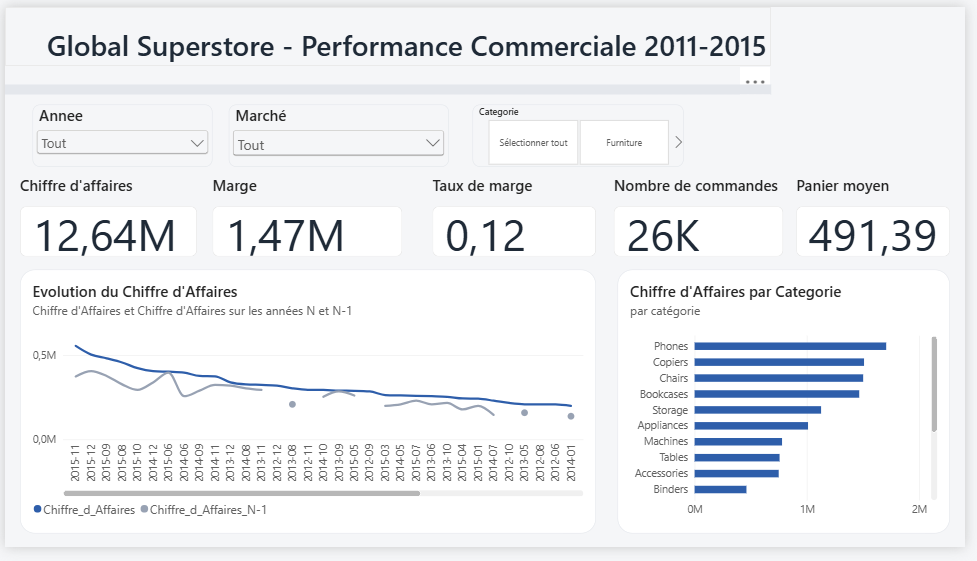

Layout of this report page (visuals, bound fields, positions):
{"tool":"powerbi","page":{"name":"Synthèse","canvas":[1280,720],"ordinal":0},"visuals":[{"type":"textbox","box":[0,0,1054.5,77.3],"z":0},{"type":"shape","box":[0,102.5,1055,12.5],"z":1000},{"type":"slicer","fields":{"Values":["Dates.Annee"]},"box":[36.7,130,240,83.3],"z":2000},{"type":"slicer","fields":{"Values":["Orders.Market"]},"box":[298.3,130,293.3,83.3],"z":3000},{"type":"slicer","fields":{"Values":["Orders.Category"]},"box":[622.9,130.8,637.2,82.5],"z":4000},{"type":"cardVisual","title":"Chiffre d''affaires","fields":{"Data":["Mesures_DAX.Chiffre_d_Affaires"]},"box":[20,223.3,236.7,110],"z":5000},{"type":"cardVisual","title":"Marge","fields":{"Data":["Mesures_DAX.Marge"]},"box":[276.7,223.3,253.3,110],"z":6000},{"type":"cardVisual","title":"Taux de marge","fields":{"Data":["Mesures_DAX.Taux de marge"]},"box":[570,223.3,218.3,110],"z":7000},{"type":"cardVisual","title":"Nombre de commandes","fields":{"Data":["Mesures_DAX.Nbre de commandes"]},"box":[811.7,223.3,226.7,110],"z":8000},{"type":"cardVisual","title":"Panier moyen","fields":{"Data":["Mesures_DAX.Panier moyen"]},"box":[1055,223.3,205,110],"z":9000},{"type":"lineChart","title":"Evolution du Chiffre d''Affaires","fields":{"Category":["Dates.Date.Variation.Hiérarchie de dates.Année","Dates.Date.Variation.Hiérarchie de dates.Mois"],"Y":["Mesures_DAX.Chiffre_d_Affaires","Mesures_DAX.Chiffre_d_Affaires_N-1"]},"box":[20,350,768.3,351.7],"z":10000},{"type":"clusteredBarChart","title":"Top 10 des sous-catégories par CA","fields":{"Category":["Orders.Sub-Category"],"Y":["Mesures_DAX.Chiffre_d_Affaires"]},"box":[816.7,350,443.3,351.7],"z":11000}]}

Visuals, with their boxes in screenshot pixels (x1, y1, x2, y2), scaled from the page's 1280x720 canvas onto the 977x561 screenshot:
textbox: 0:0:805:60
shape: 0:80:805:90
slicer - Dates.Annee: 28:101:211:166
slicer - Orders.Market: 228:101:452:166
slicer - Orders.Category: 475:102:962:166
"Chiffre d''affaires" cardVisual: 15:174:196:260
"Marge" cardVisual: 211:174:405:260
"Taux de marge" cardVisual: 435:174:602:260
"Nombre de commandes" cardVisual: 620:174:793:260
"Panier moyen" cardVisual: 805:174:962:260
"Evolution du Chiffre d''Affaires" lineChart: 15:273:602:547
"Top 10 des sous-catégories par CA" clusteredBarChart: 623:273:962:547
